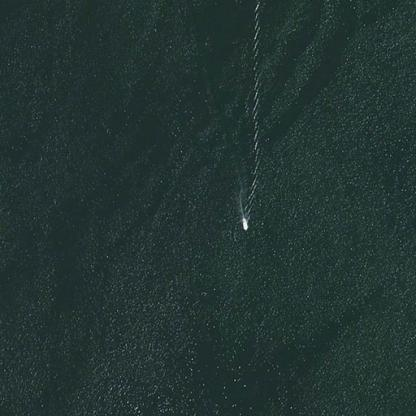ship: (234, 210, 254, 234)
